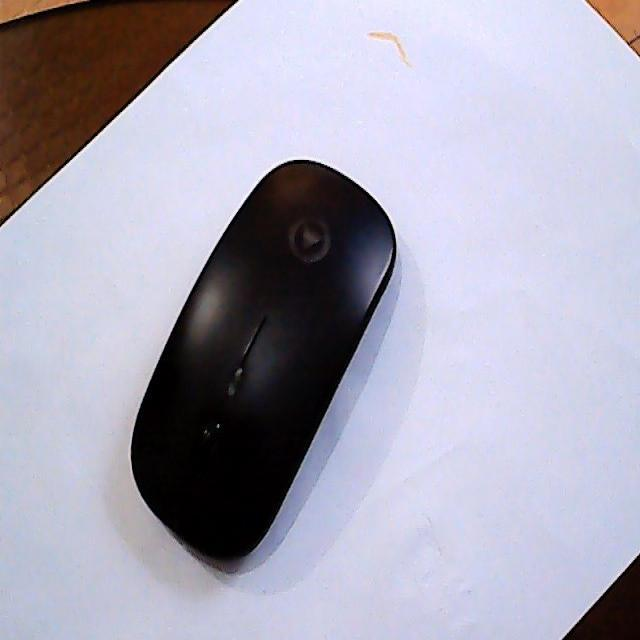mouse: (129, 154, 397, 562)
